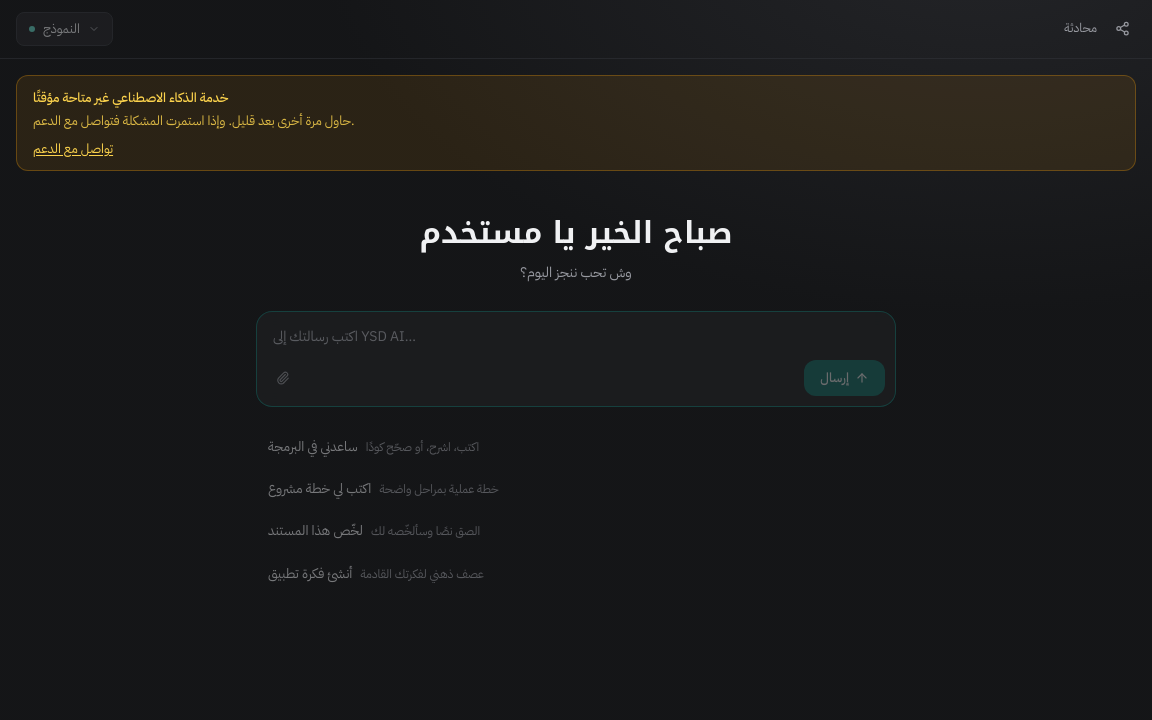
Test case: ★ فشل المزوّد الطرفي — ما يراه المستخدم › ★ ٥) بثّ الفشل ⇒ الإشعار يظهر والانتظار ينتهي
# كتابة ثم إرسال — كما يفعل المستخدم
Type "ما عاصمة السعودية؟" into the text box with placeholder "اكتب رسالتك إلى YSD AI…" at (576, 332), box [257,312,895,353]
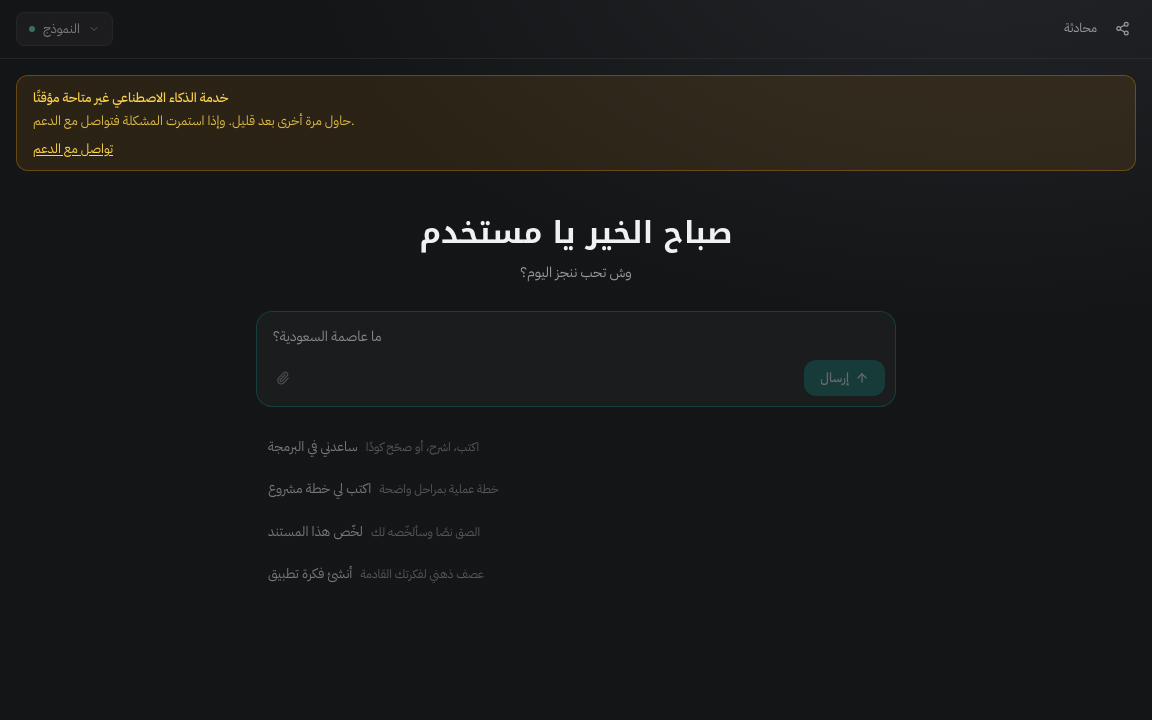
Press Enter in the text box named "رسالتك إلى YSD AI", box [257,312,895,353]
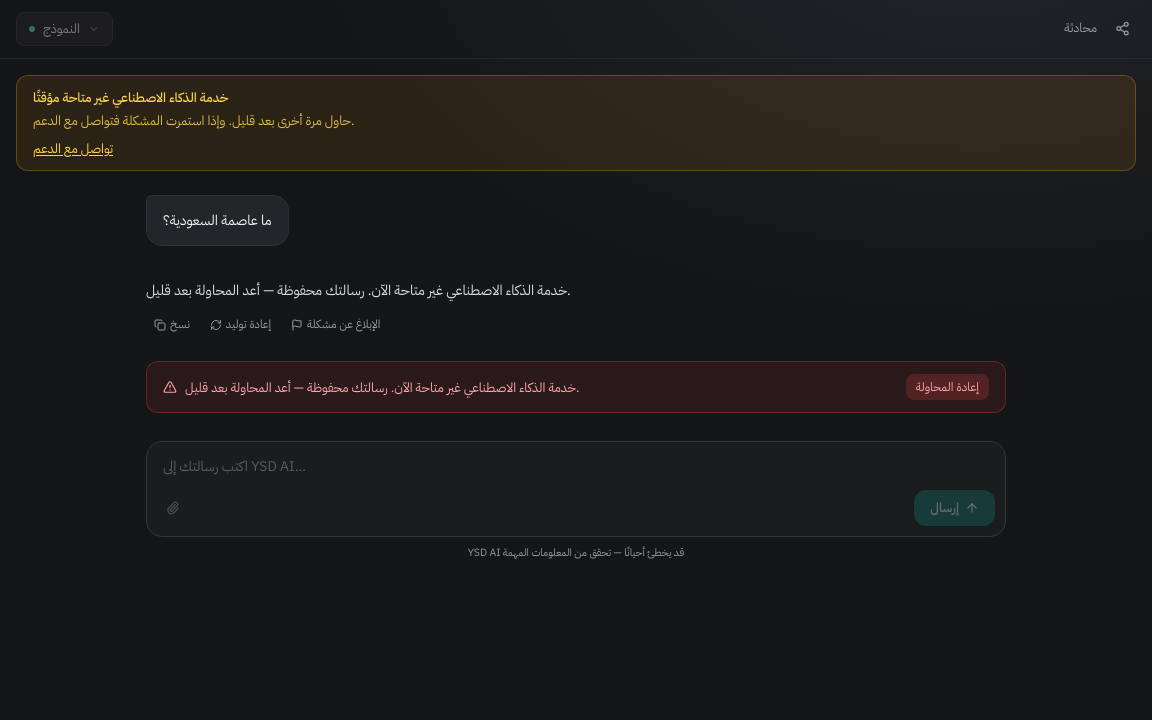
Check: the text "خدمة الذكاء الاصطناعي غير متاحة الآن. رسالتك محفوظة — أعد المحاولة بعد قليل." is shown, box [146,280,571,301]
